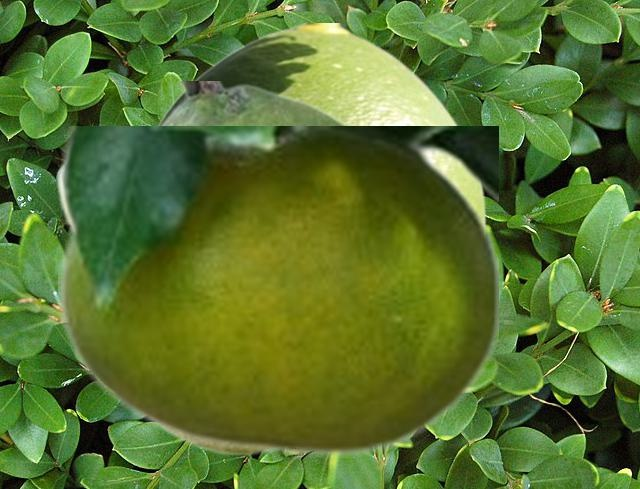dalandan: (58, 126, 497, 456), (54, 81, 351, 455), (154, 23, 486, 222)
